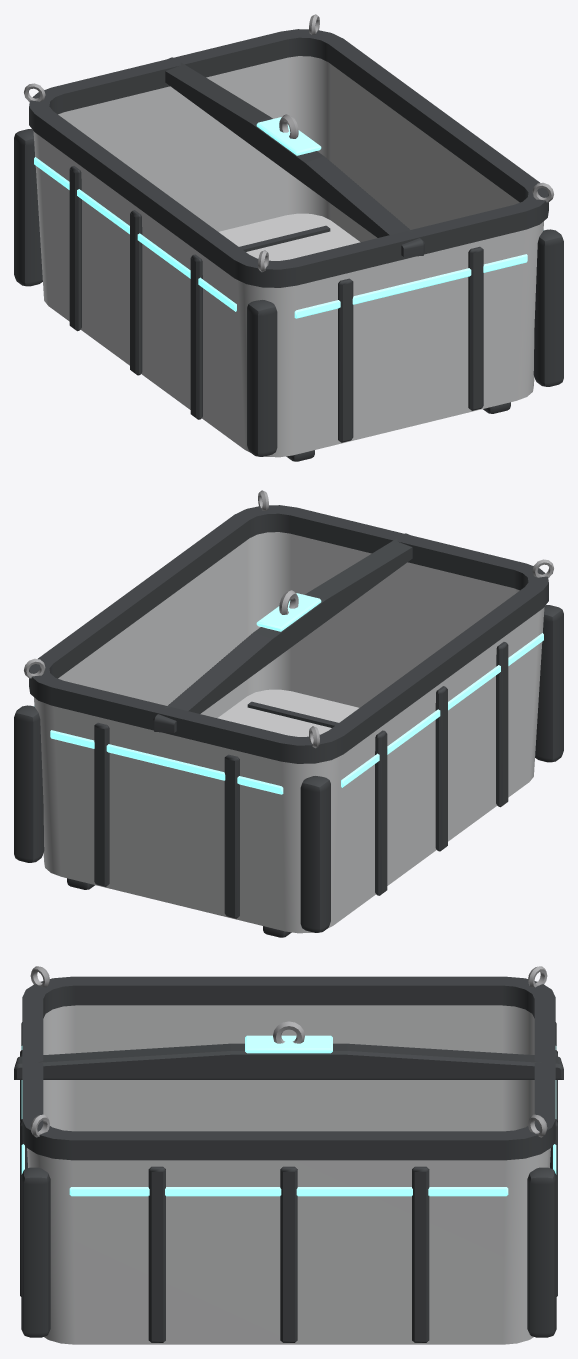
File: cargo_pod.glb
The picture shows the model from 3 angles, top to bottom: view 1: azimuth 30°, elevation 25°; view 2: azimuth 150°, elevation 25°; view 3: azimuth 270°, elevation 25°; orthographic projection. The views are drawn at different scales.
Visible parts, largest first — view 1: pod; view 2: pod; view 3: pod.
Part boxes in pixels (x1=…): pod: x1=14, y1=14, x2=563, y2=461; pod: x1=14, y1=490, x2=563, y2=937; pod: x1=14, y1=966, x2=563, y2=1344.
Bounding box in the file's own units: 1.34 × 0.98 × 1.88.
